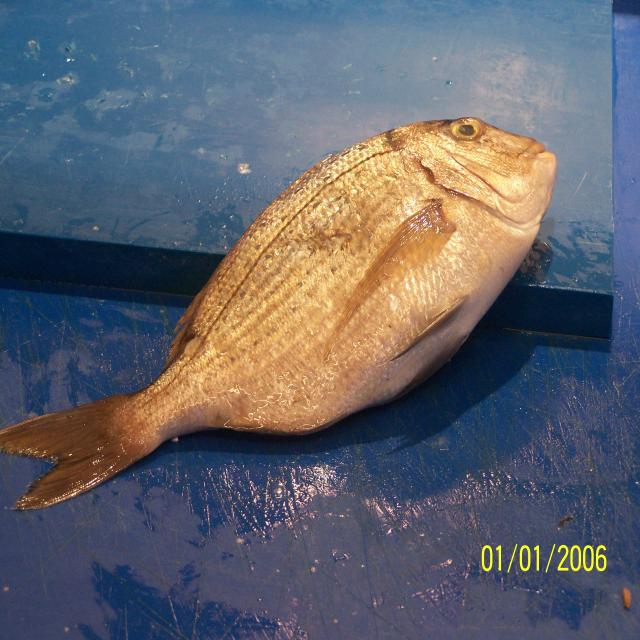Red-Sea-Bream-mercan-: (0, 117, 558, 513)
